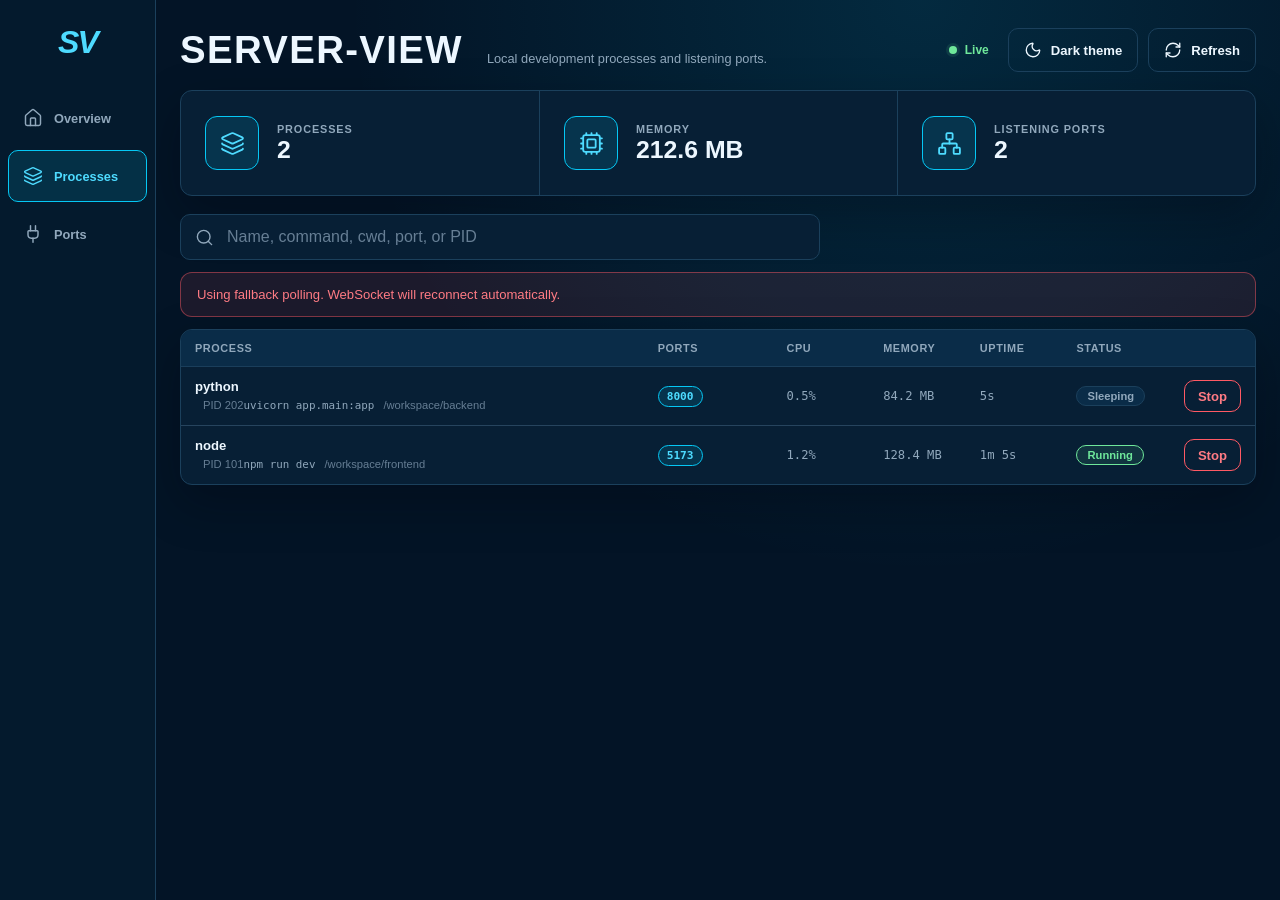
App › keeps prior rows visible and marks them stale after a refresh error
This screenshot has width=1280, height=900.
What coordinates should you click on to do the following:
click the button "Refresh"
I would click on:
 (1202, 50)
Its box is [1148,28,1256,72].
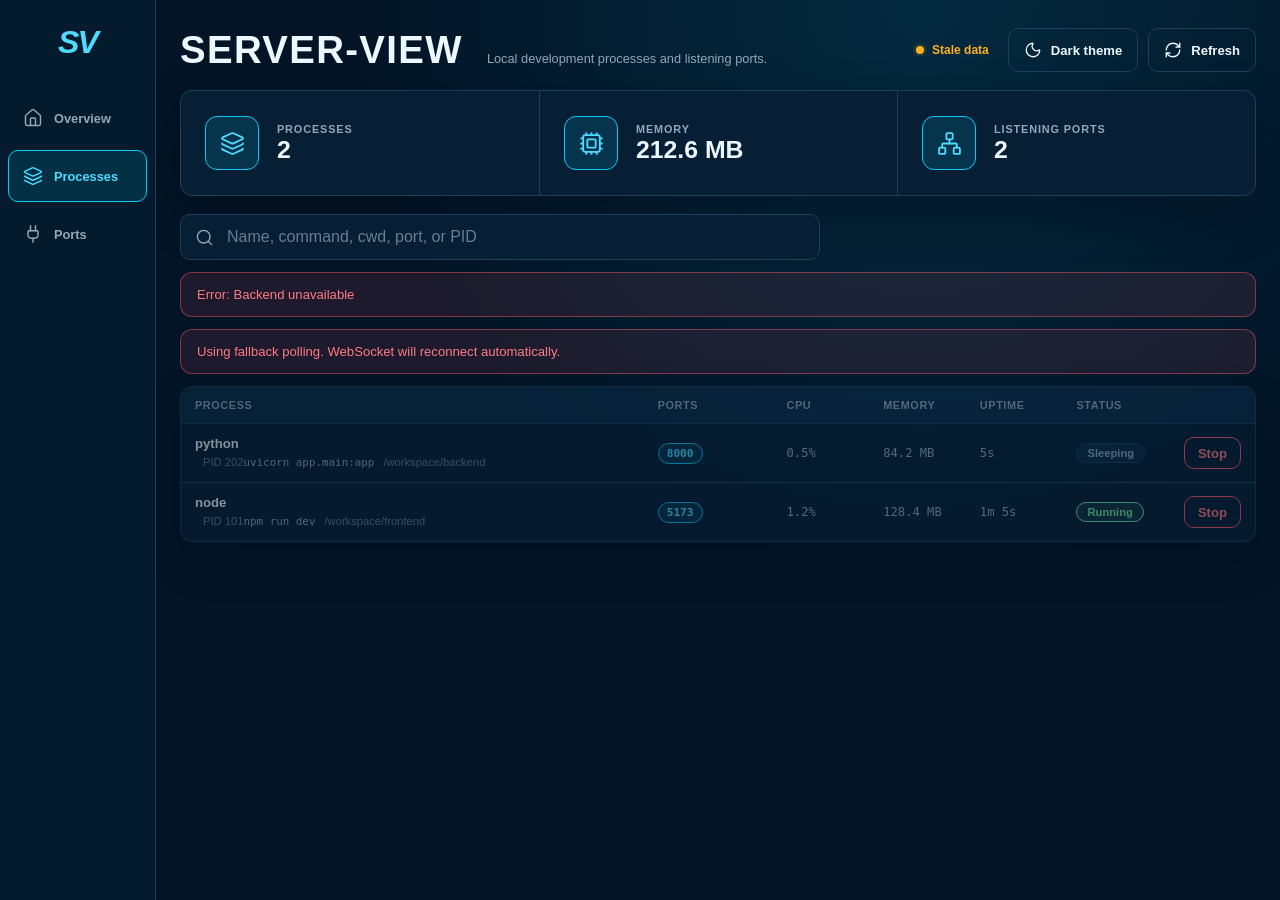
Check: the text "npm run dev" is shown, box [243,515,315,528]
Check: the text "Error: Backend unavailable" is shown, box [180,272,1256,317]
